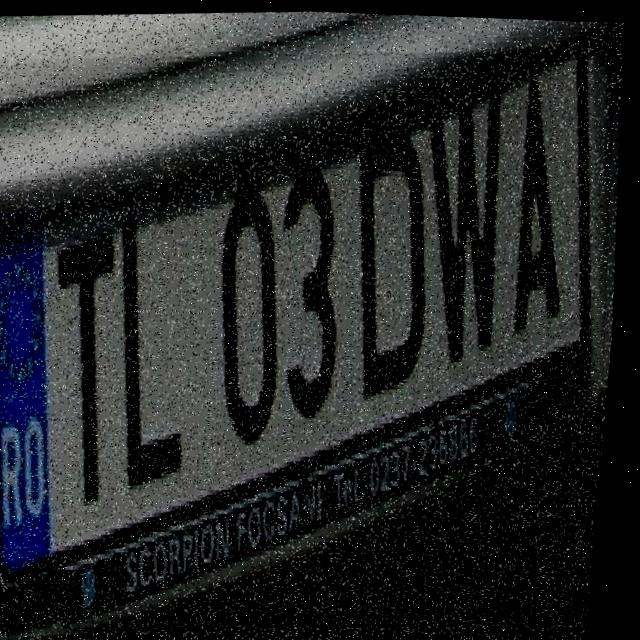LicensePlate: (0, 27, 638, 640)
